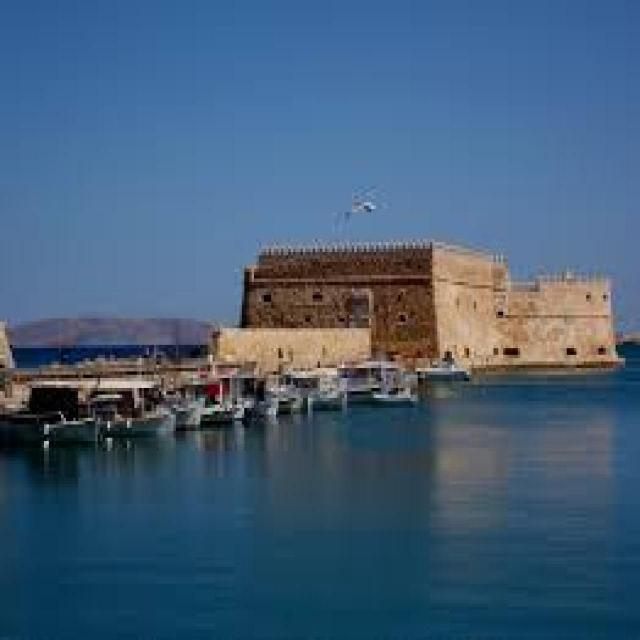Kules: (213, 223, 628, 375)
